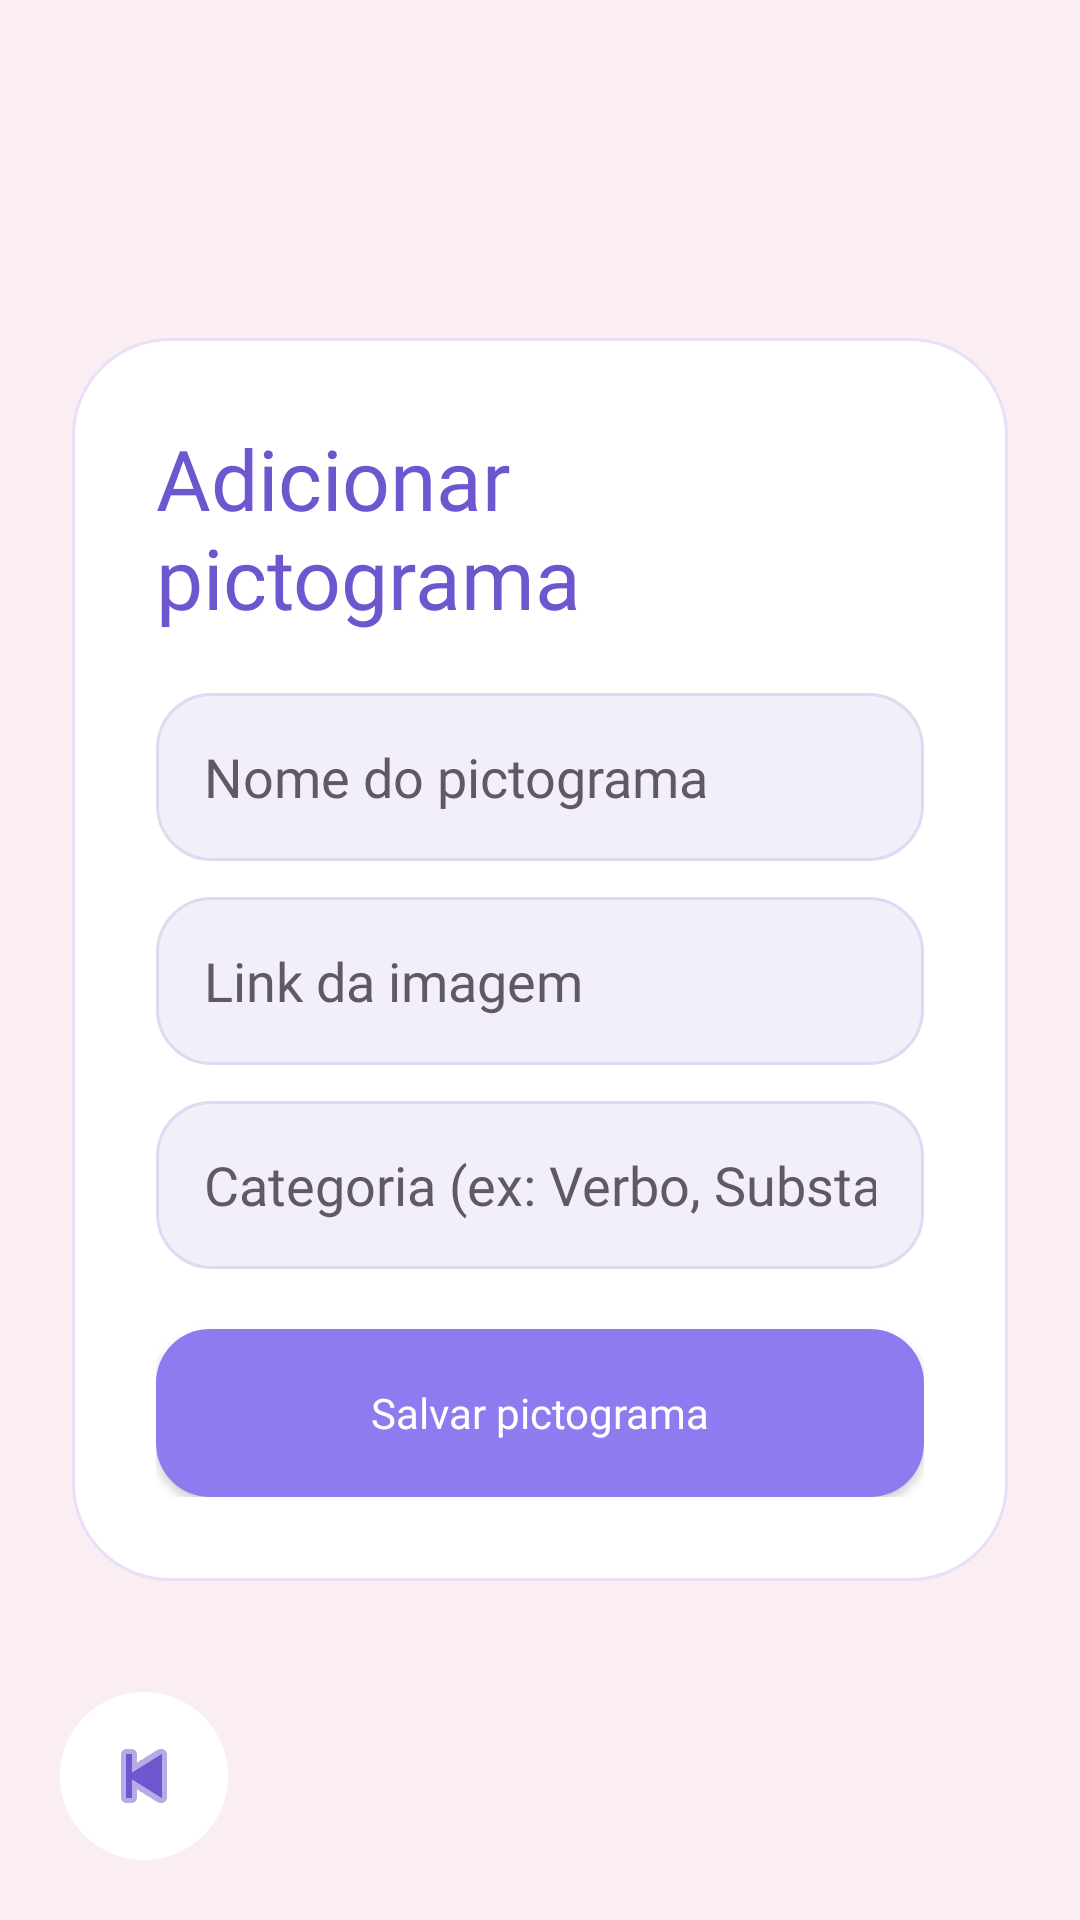

Icons on this 1080 x 1920 Android screen, each with its box as (x1, y1, x2, y2):
previous: (121, 1749, 167, 1803)
